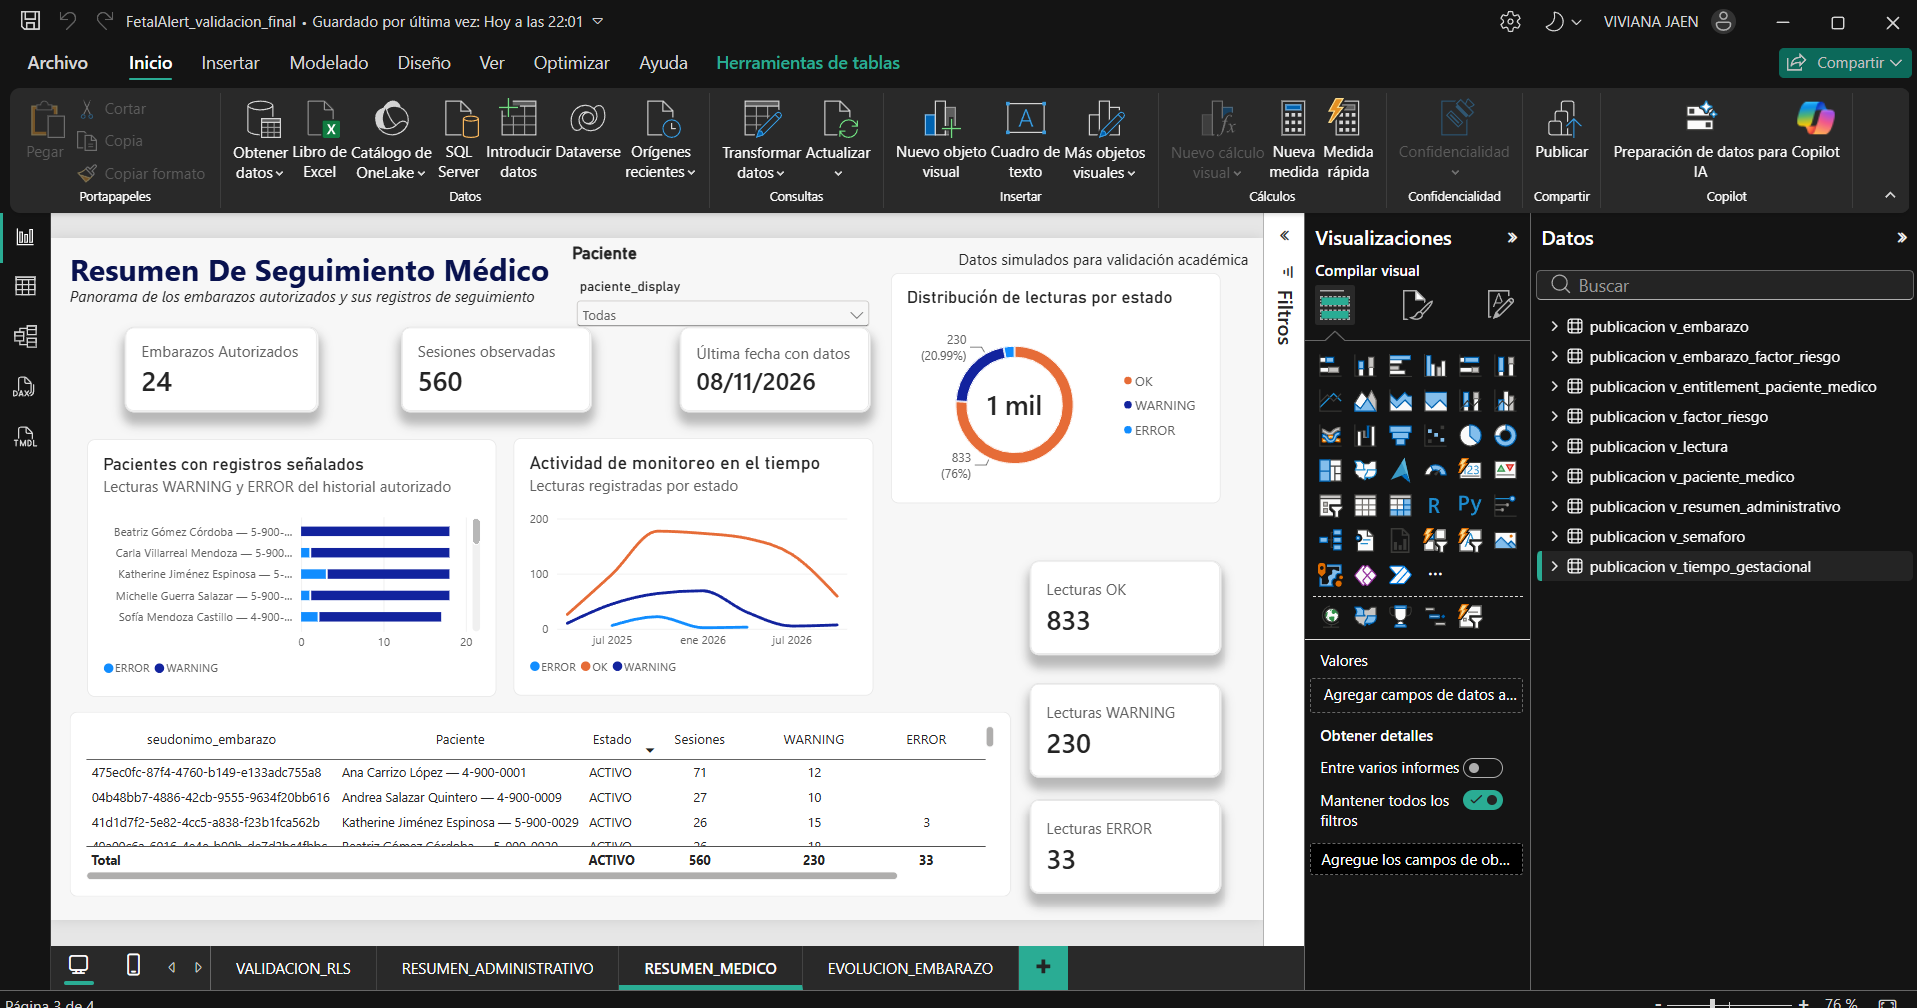

The page's visual inventory and layout, read from the dashboard file:
{"tool":"powerbi","page":{"name":"RESUMEN_MEDICO","canvas":[1280,720],"ordinal":2},"visuals":[{"type":"textbox","box":[20,10,644,54],"z":0},{"type":"textbox","box":[20,50,644,30],"z":1000},{"type":"textbox","box":[930,10,334,38],"z":2000},{"type":"cardVisual","fields":{"Data":["publicacion v_embarazo.Embarazos visibles"]},"box":[78.2,93.3,204.5,90.6],"z":3000},{"type":"cardVisual","fields":{"Data":["publicacion v_lectura.Lecturas WARNING"]},"box":[1034,470,202,100],"z":4000},{"type":"cardVisual","fields":{"Data":["publicacion v_lectura.Lecturas ERROR"]},"box":[1034,592,202,100],"z":5000},{"type":"cardVisual","fields":{"Data":["publicacion v_lectura.Sesiones observadas"]},"box":[369.1,93.3,201.7,90.6],"z":6000},{"type":"cardVisual","fields":{"Data":["publicacion v_lectura.Última fecha con datos"]},"box":[664.2,93.3,201.7,90.6],"z":7000},{"type":"cardVisual","fields":{"Data":["publicacion v_lectura.Lecturas OK"]},"box":[1034,340,202,100],"z":8000},{"type":"donutChart","title":"Distribución de lecturas por estado","fields":{"Category":["publicacion v_lectura.codigo_semaforo"],"Y":["publicacion v_lectura.Lecturas"]},"box":[886.7,36.7,348.3,243.3],"z":9000},{"type":"barChart","title":"Pacientes con registros señalados","fields":{"Category":["publicacion v_paciente_medico.paciente_display"],"Series":["publicacion v_lectura.codigo_semaforo"],"Y":["publicacion v_lectura.Lecturas"]},"box":[38,212,432,272],"z":10000},{"type":"tableEx","fields":{"Values":["publicacion v_embarazo.seudonimo_embarazo","publicacion v_paciente_medico.paciente_display","publicacion v_embarazo.estado_embarazo","publicacion v_lectura.Sesiones observadas","publicacion v_lectura.Lecturas WARNING","publicacion v_lectura.Lecturas ERROR","publicacion v_lectura.Última fecha con datos"]},"box":[20,500,993.3,195],"z":11000},{"type":"lineChart","title":"Actividad de monitoreo en el tiempo","fields":{"Category":["publicacion v_lectura.fecha_captura.Variación.Jerarquía de fechas.Año","publicacion v_lectura.fecha_captura.Variación.Jerarquía de fechas.Trimestre","publicacion v_lectura.fecha_captura.Variación.Jerarquía de fechas.Mes","publicacion v_lectura.fecha_captura.Variación.Jerarquía de fechas.Día"],"Series":["publicacion v_lectura.codigo_semaforo"],"Y":["publicacion v_lectura.Lecturas"]},"box":[488.3,211.7,380,271.7],"z":12000},{"type":"slicer","title":"Paciente","fields":{"Values":["publicacion v_paciente_medico.paciente_display"]},"box":[550.3,5.5,318.4,87.8],"z":13000}]}

Visuals, with their boxes on the page's 1280x720 design canvas (x1, y1, x2, y2). These are canvas units, not pixel positions in the 1917x1008 screenshot, which may show the page scaled, cropped or inside an application window:
textbox: [left=20, top=10, right=664, bottom=64]
textbox: [left=20, top=50, right=664, bottom=80]
textbox: [left=930, top=10, right=1264, bottom=48]
cardVisual - publicacion v_embarazo.Embarazos visibles: [left=78, top=93, right=283, bottom=184]
cardVisual - publicacion v_lectura.Lecturas WARNING: [left=1034, top=470, right=1236, bottom=570]
cardVisual - publicacion v_lectura.Lecturas ERROR: [left=1034, top=592, right=1236, bottom=692]
cardVisual - publicacion v_lectura.Sesiones observadas: [left=369, top=93, right=571, bottom=184]
cardVisual - publicacion v_lectura.Última fecha con datos: [left=664, top=93, right=866, bottom=184]
cardVisual - publicacion v_lectura.Lecturas OK: [left=1034, top=340, right=1236, bottom=440]
"Distribución de lecturas por estado" donutChart: [left=887, top=37, right=1235, bottom=280]
"Pacientes con registros señalados" barChart: [left=38, top=212, right=470, bottom=484]
tableEx - publicacion v_embarazo.seudonimo_embarazo x publicacion v_paciente_medico.paciente_display: [left=20, top=500, right=1013, bottom=695]
"Actividad de monitoreo en el tiempo" lineChart: [left=488, top=212, right=868, bottom=483]
"Paciente" slicer: [left=550, top=6, right=869, bottom=93]
